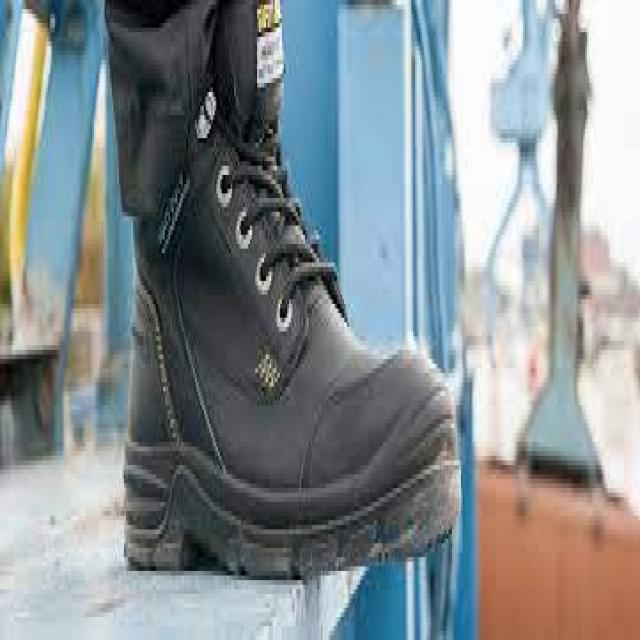shoes: (109, 0, 458, 573)
